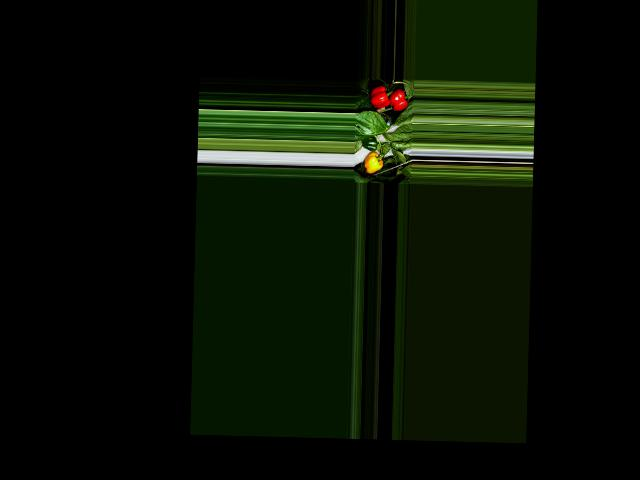bell_pepper: (362, 150, 384, 176)
